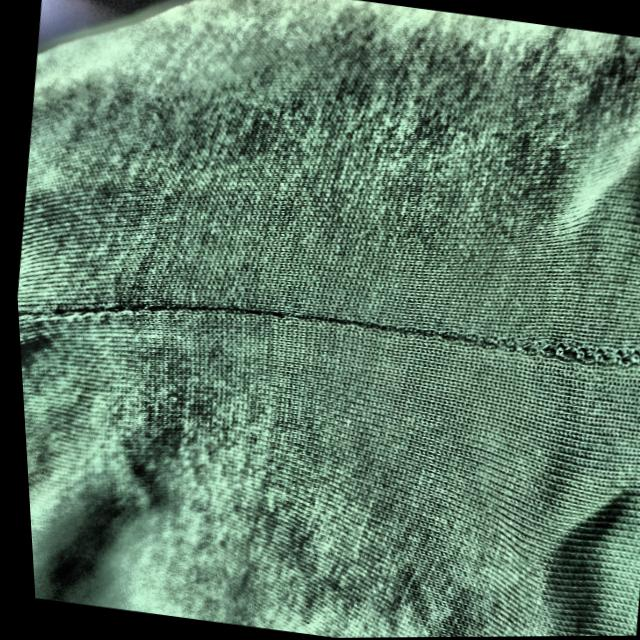Stitch: (439, 309, 640, 405)
